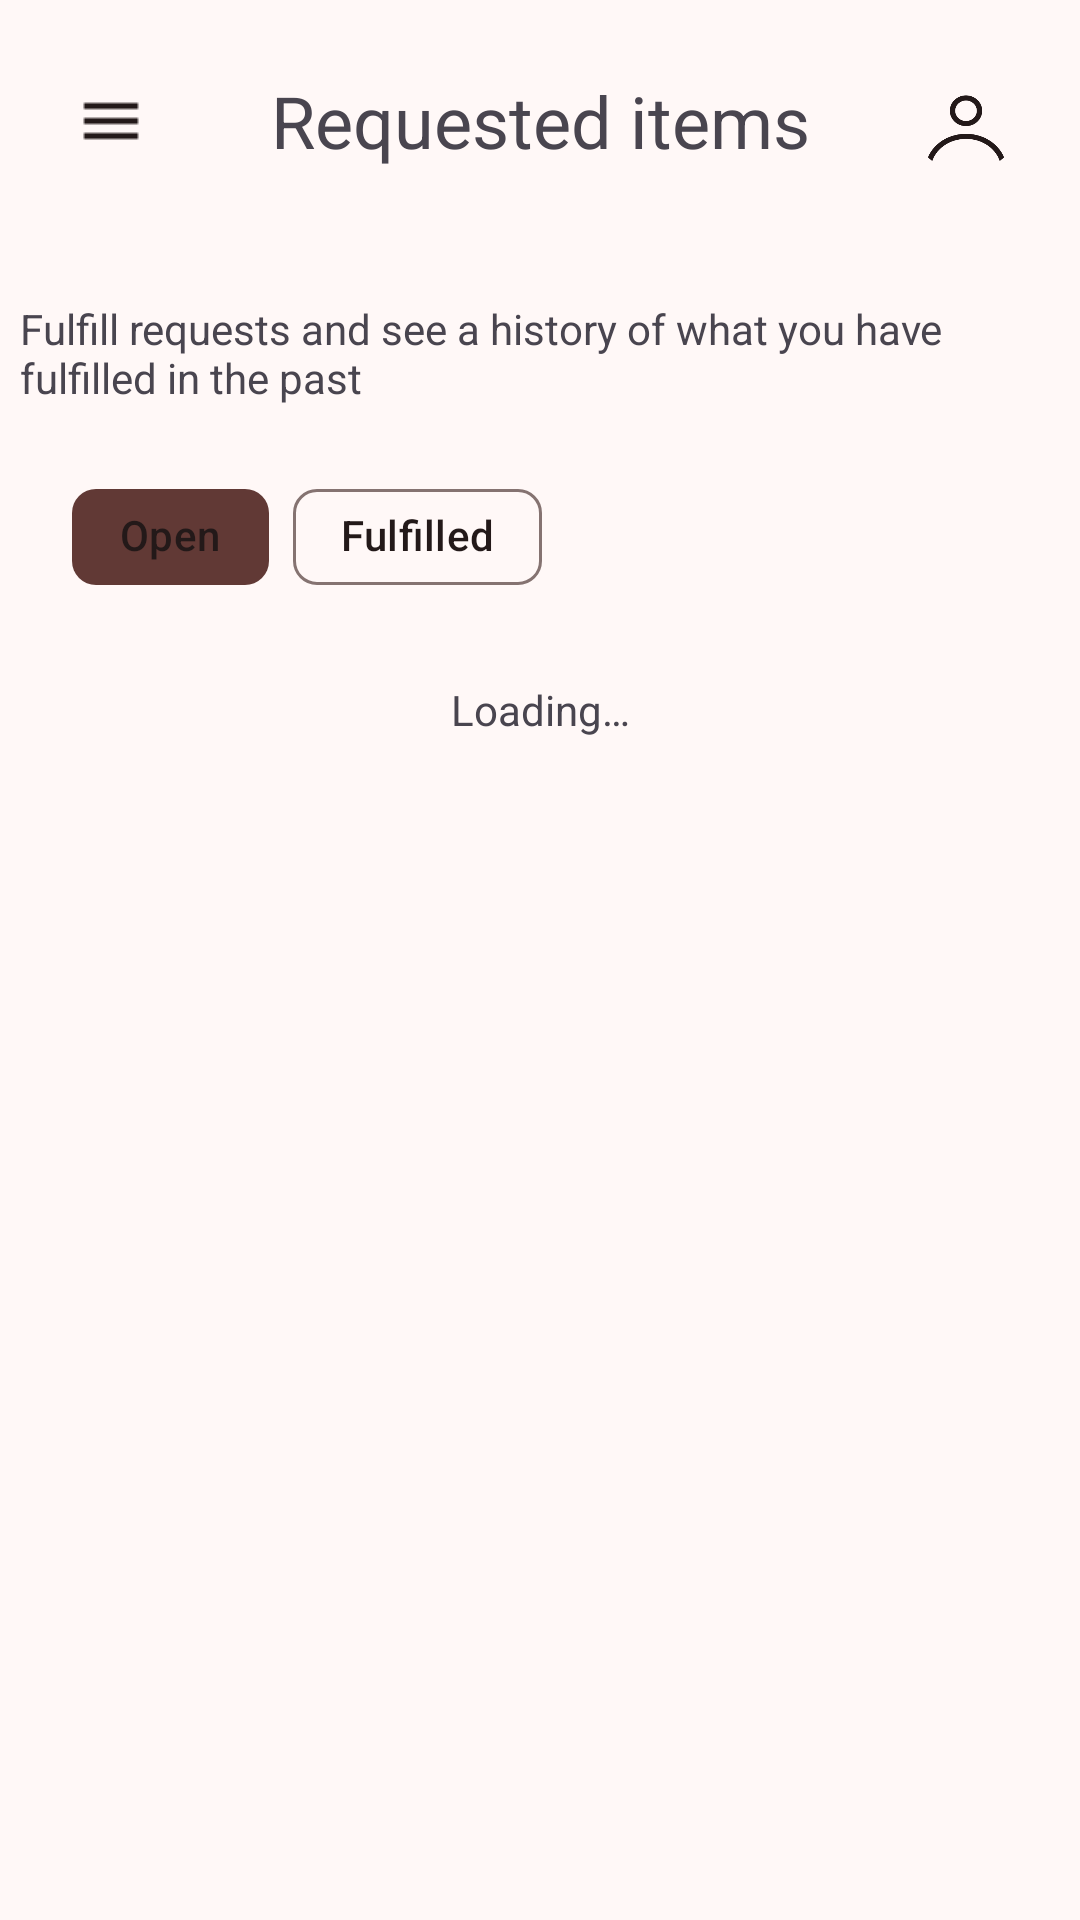

Icon bounding boxes for this 1080px×1920px phone screenshot, format (x1, y1, x2, y2):
menu: (83, 102, 139, 140)
